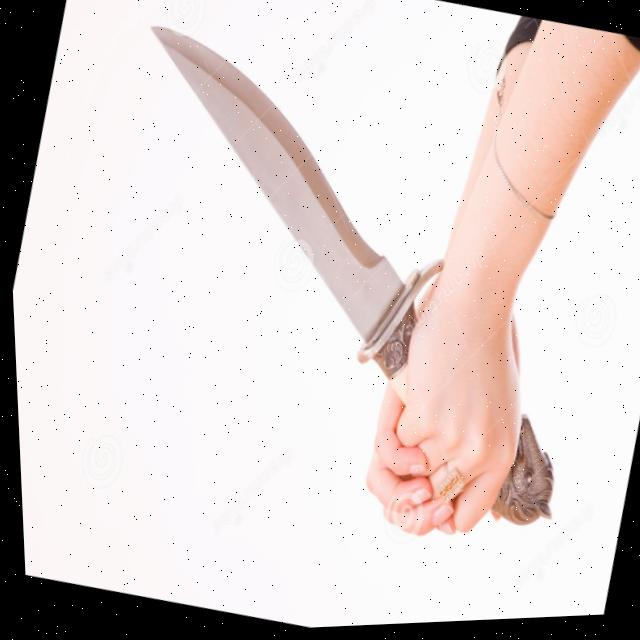knife: (76, 3, 468, 396)
